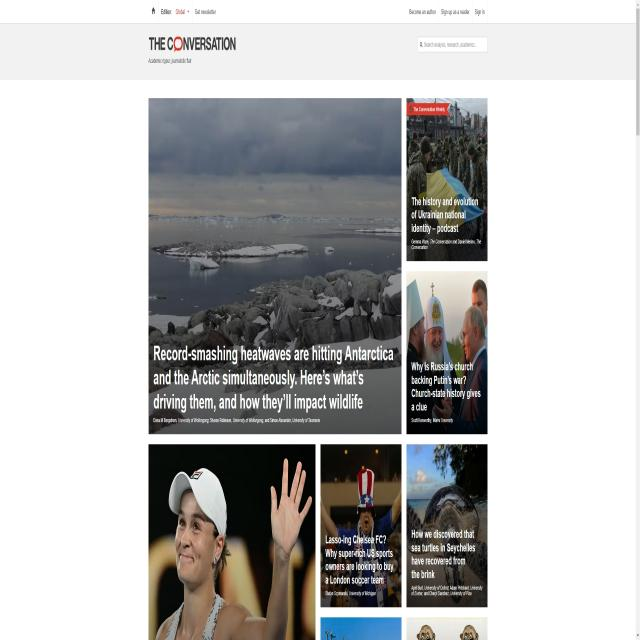menu-bar: (408, 1, 492, 21)
search: (412, 29, 490, 56)
tab-bar: (158, 1, 218, 24)
